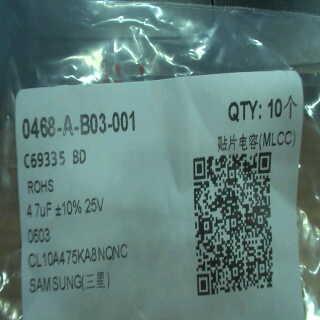4.7uF: (22, 196, 54, 221)
